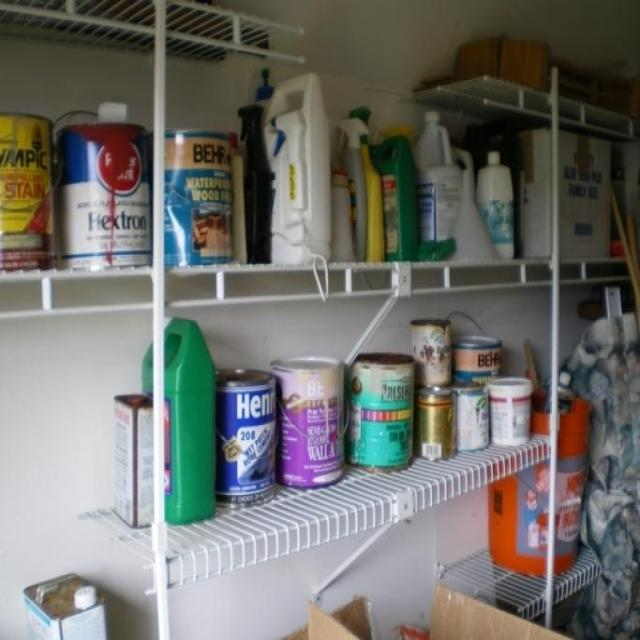Plastics: (262, 70, 542, 282), (149, 305, 225, 541), (457, 362, 551, 471)
can: (1, 48, 252, 274), (221, 308, 463, 516)
